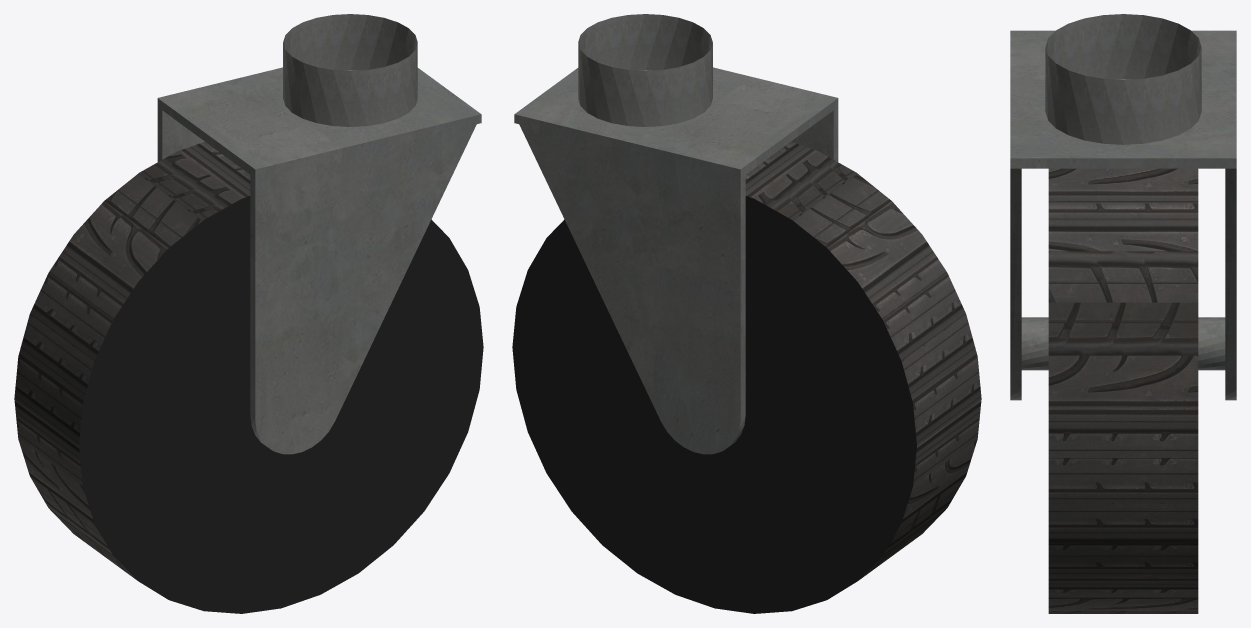
Rendered from caster.dae.
The picture shows the model from 3 angles, left to right: view 1: azimuth 30°, elevation 25°; view 2: azimuth 150°, elevation 25°; view 3: azimuth 270°, elevation 25°; orthographic projection. The views are drawn at different scales.
Visible parts, largest first — view 1: _3DGeom_182_Defintion, SketchUp, _3DGeom_181_Defintion; view 2: _3DGeom_182_Defintion, SketchUp, _3DGeom_181_Defintion; view 3: _3DGeom_181_Defintion, SketchUp.
Part boxes in pixels (box(x1,y1,x2,y2)): _3DGeom_182_Defintion: box(79, 196, 483, 613); SketchUp: box(157, 14, 481, 454); _3DGeom_181_Defintion: box(14, 142, 250, 579); _3DGeom_182_Defintion: box(512, 196, 916, 613); SketchUp: box(514, 14, 838, 454); _3DGeom_181_Defintion: box(745, 142, 981, 579); _3DGeom_181_Defintion: box(1048, 168, 1198, 613); SketchUp: box(1010, 14, 1236, 400).
Bounding box in the file's own units: 5.98 × 2.5 × 7.31.
Materials: 3 (2 with a texture image).
